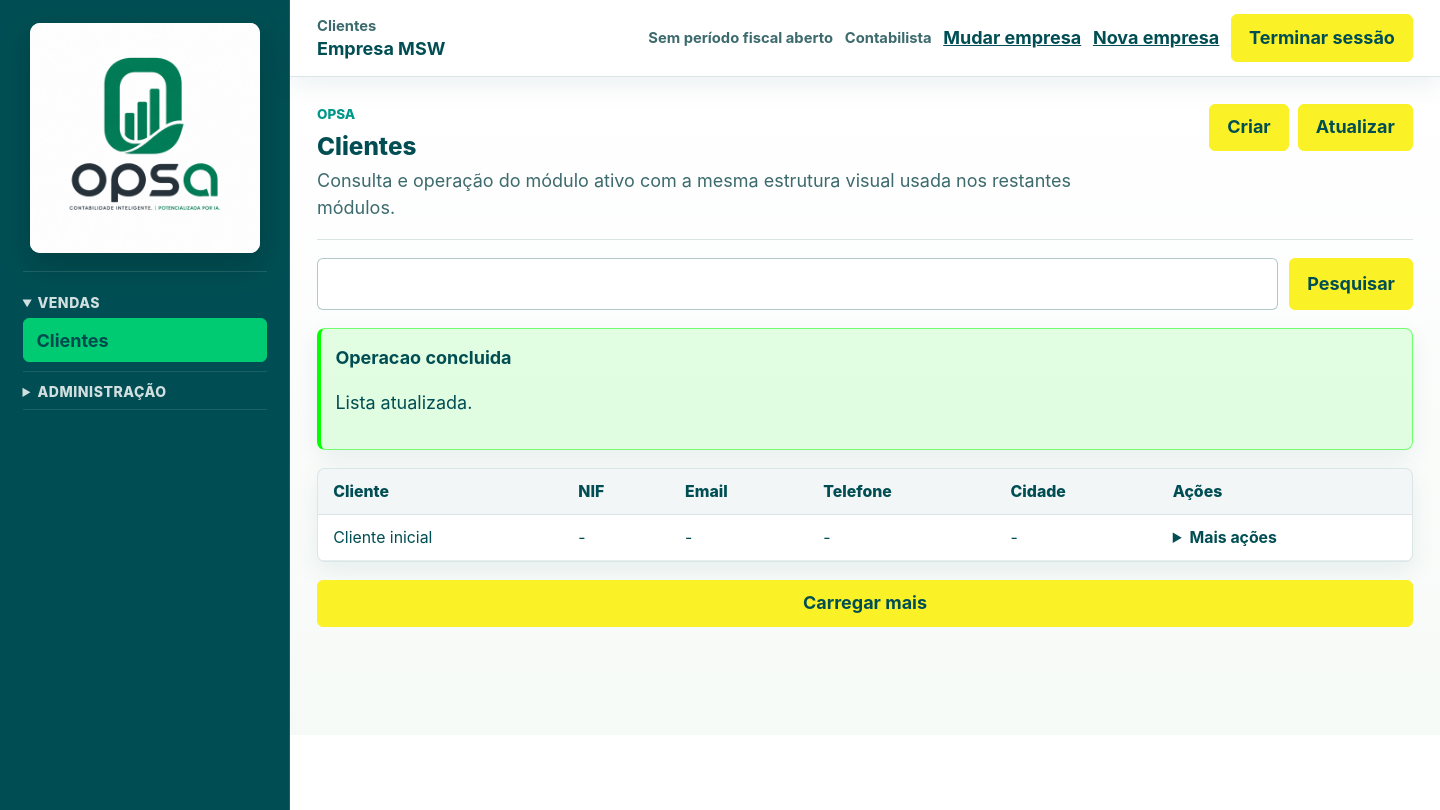
Test: App com transporte MSW › ResourcePanel fixa a pesquisa aplicada durante a continuação por cursor
The image size is (1440, 810).
Expected: the text "Cliente inicial" is shown, [318,515,563,560]
Type "ainda não aplicada" into the search field named "Pesquisar por nome ou NIF" at point(797, 284), box [317,258,1278,310]
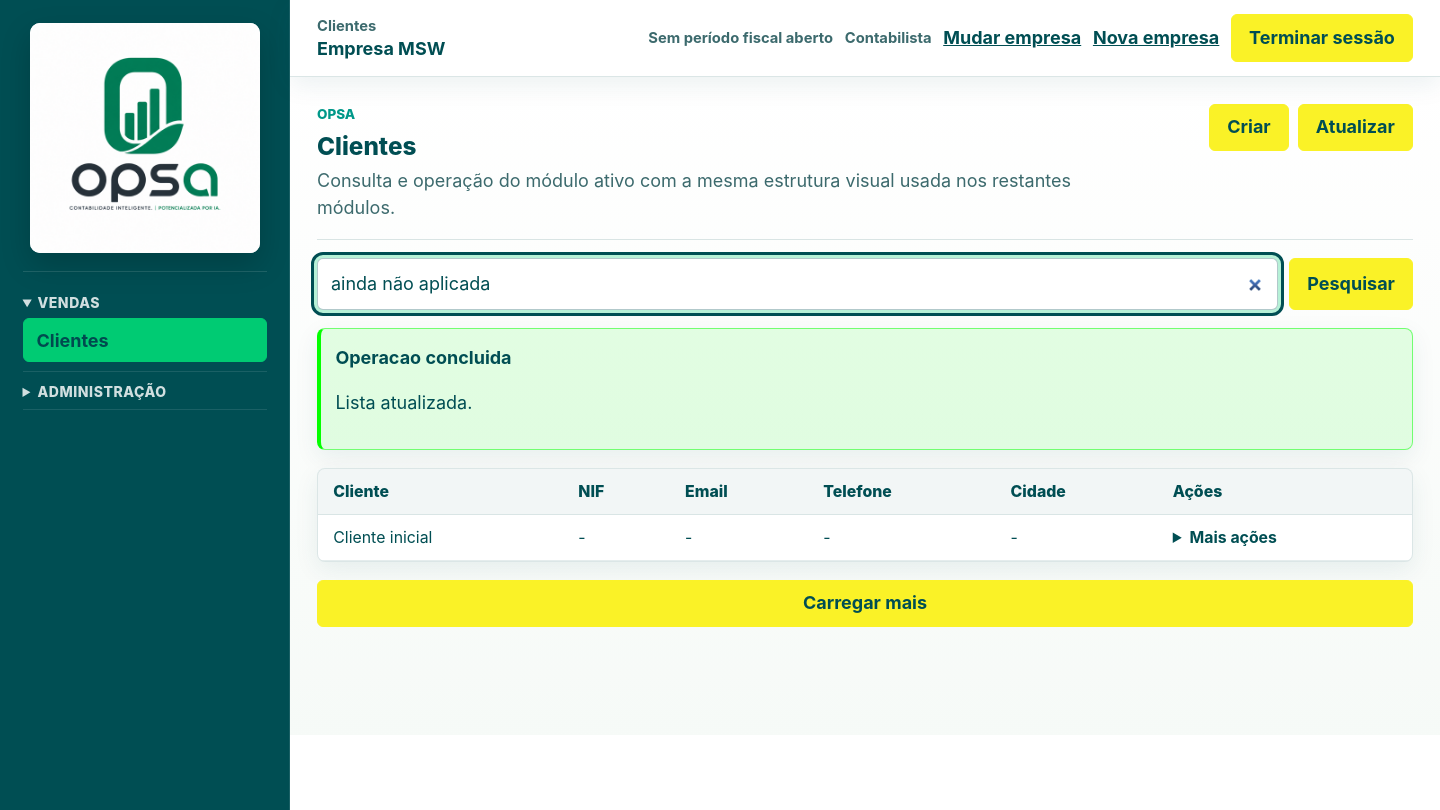
Click the button "Carregar mais" at point(865, 604), box [317,580,1413,627]
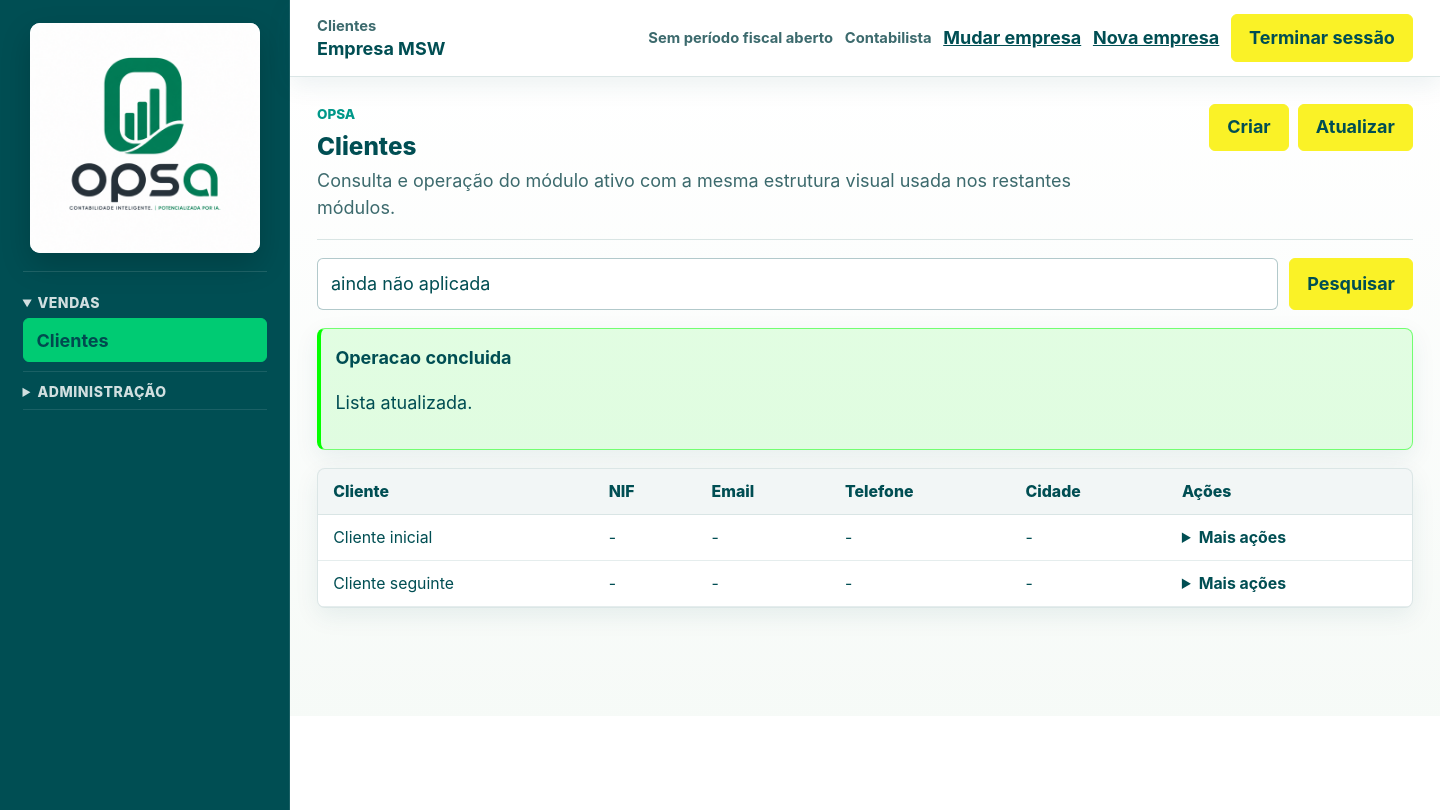
Expected: the text "Cliente seguinte" is shown, [318,560,593,606]
